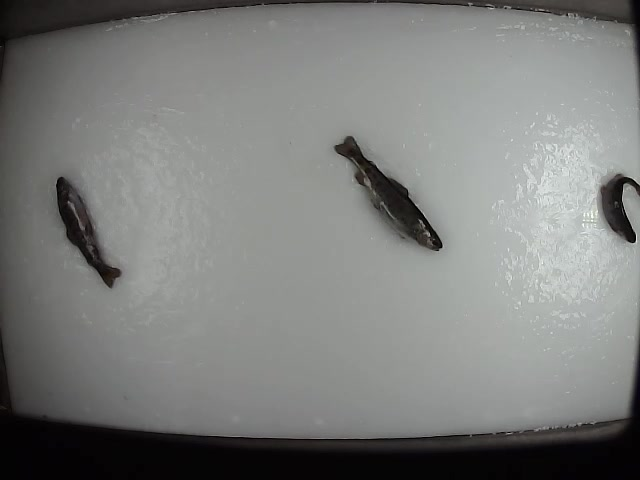fish: (332, 134, 445, 253), (51, 173, 123, 291), (597, 169, 640, 244)
